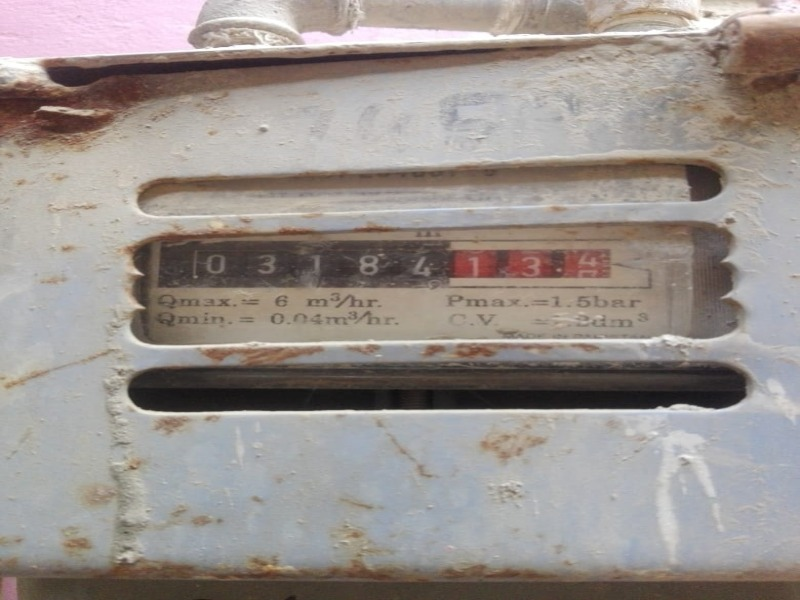ssgc: (166, 244, 637, 293)
